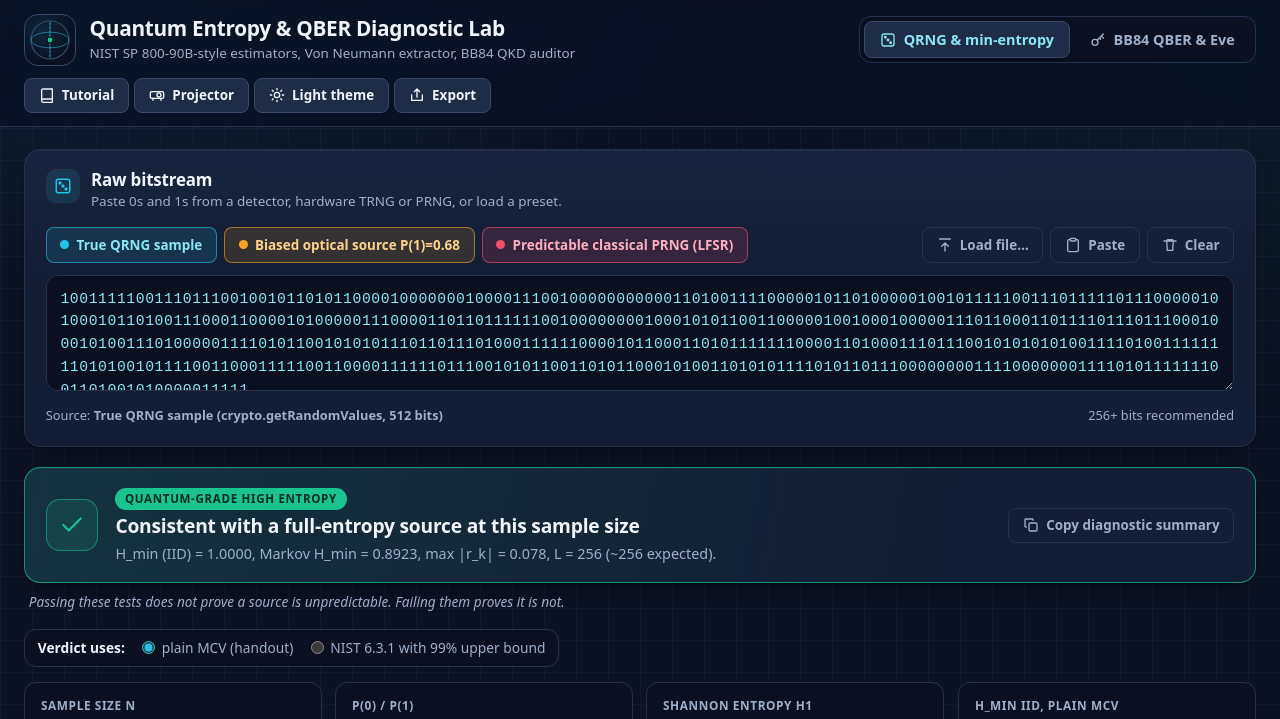
Test case: UI smoke tests › labels the biased preset as a biased physical source
The width and height of the screenshot is (1280, 719).
Click the button "Biased optical source P(1)=0.68" at (349, 245), box [224,227,474,262]
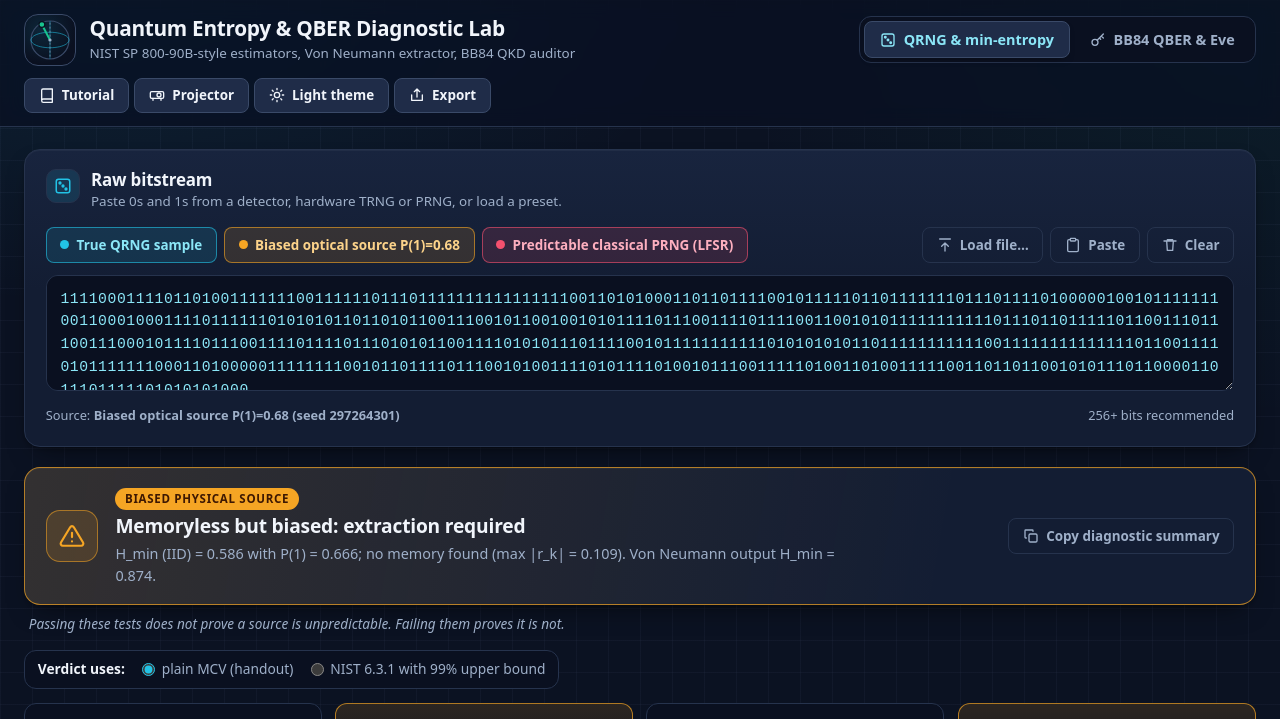
Result: the text "Biased physical source" is shown at [115,488,299,510]
